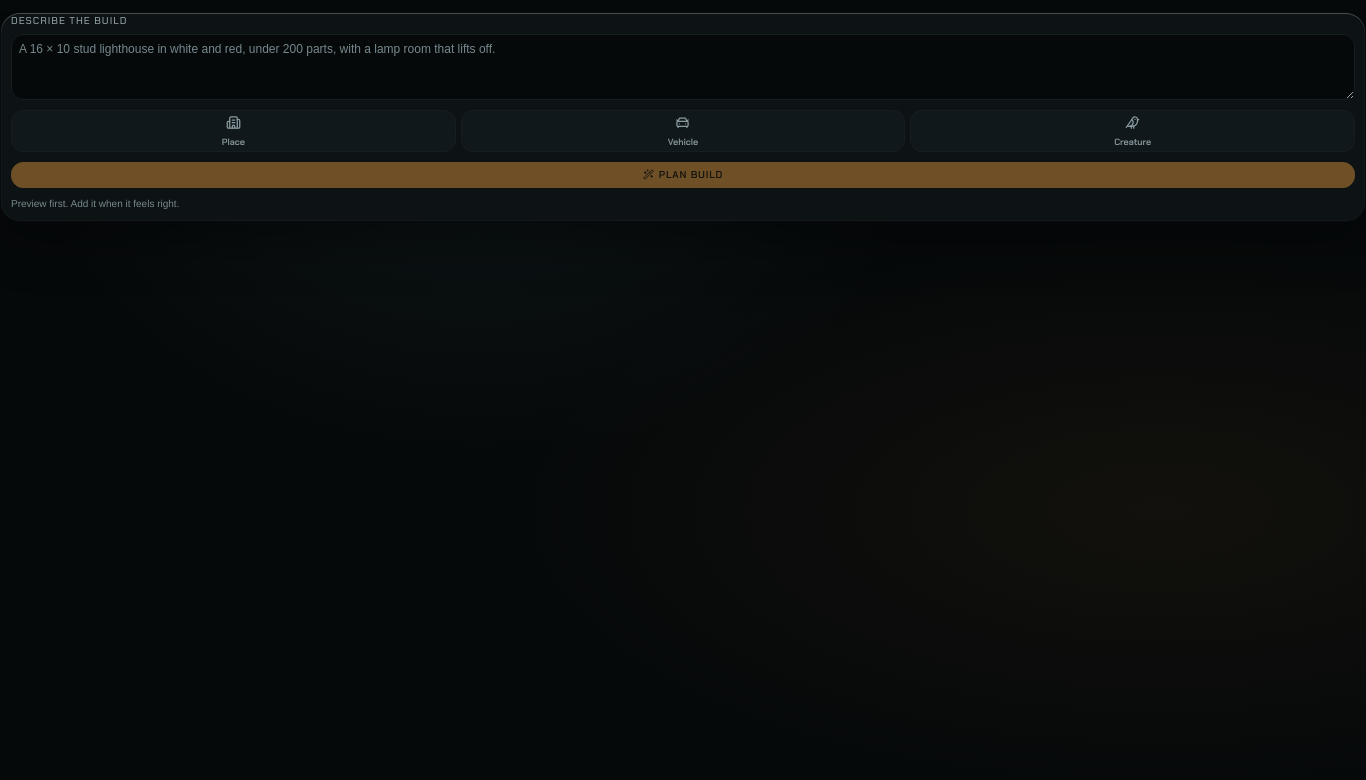
Scenario: compiling the brief › says precisely why the route did not answer, and never invents a brief
Replace the text in the text box named "What should be built" with "a small 8 x 4 stud red kiosk under 90 parts": x=683, y=67 [11,34,1355,100]
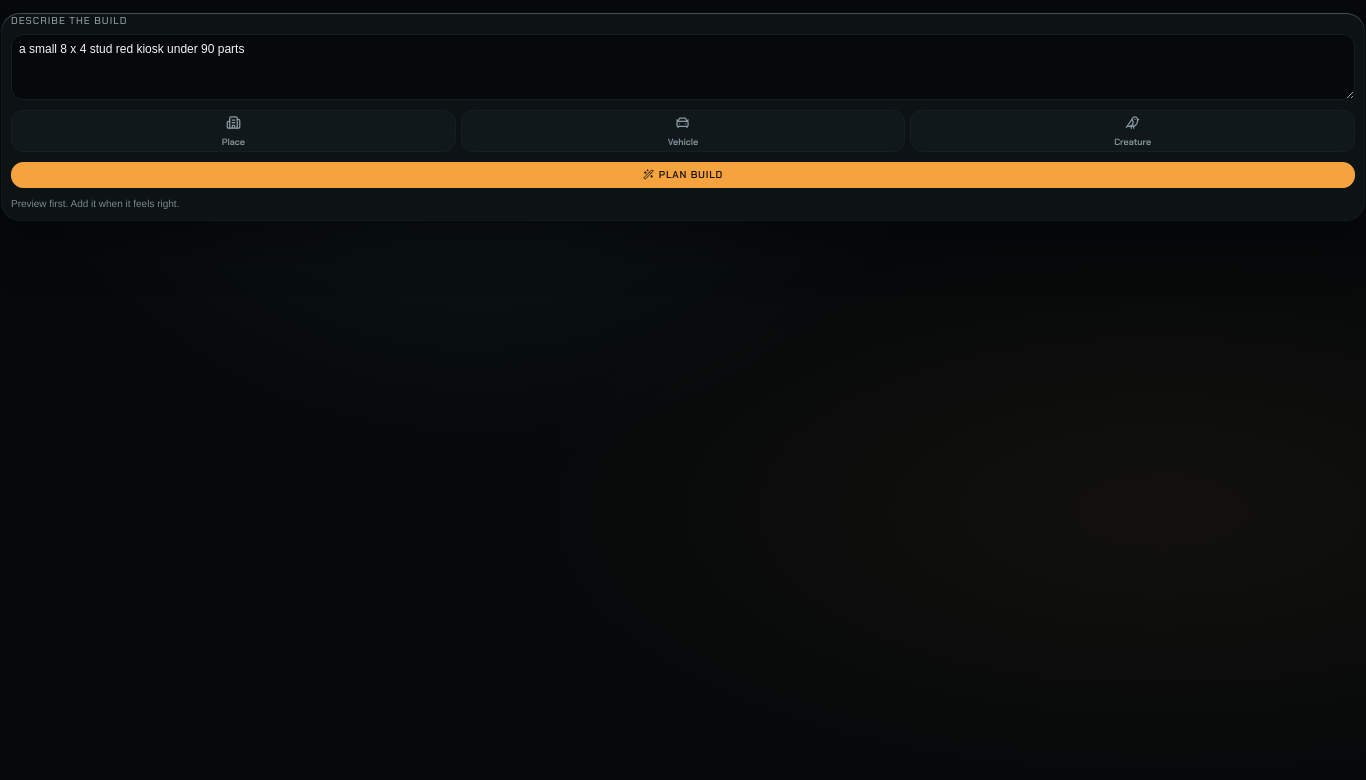
Click the button with aria-label "Compile brief": x=683, y=175 [11,162,1355,188]
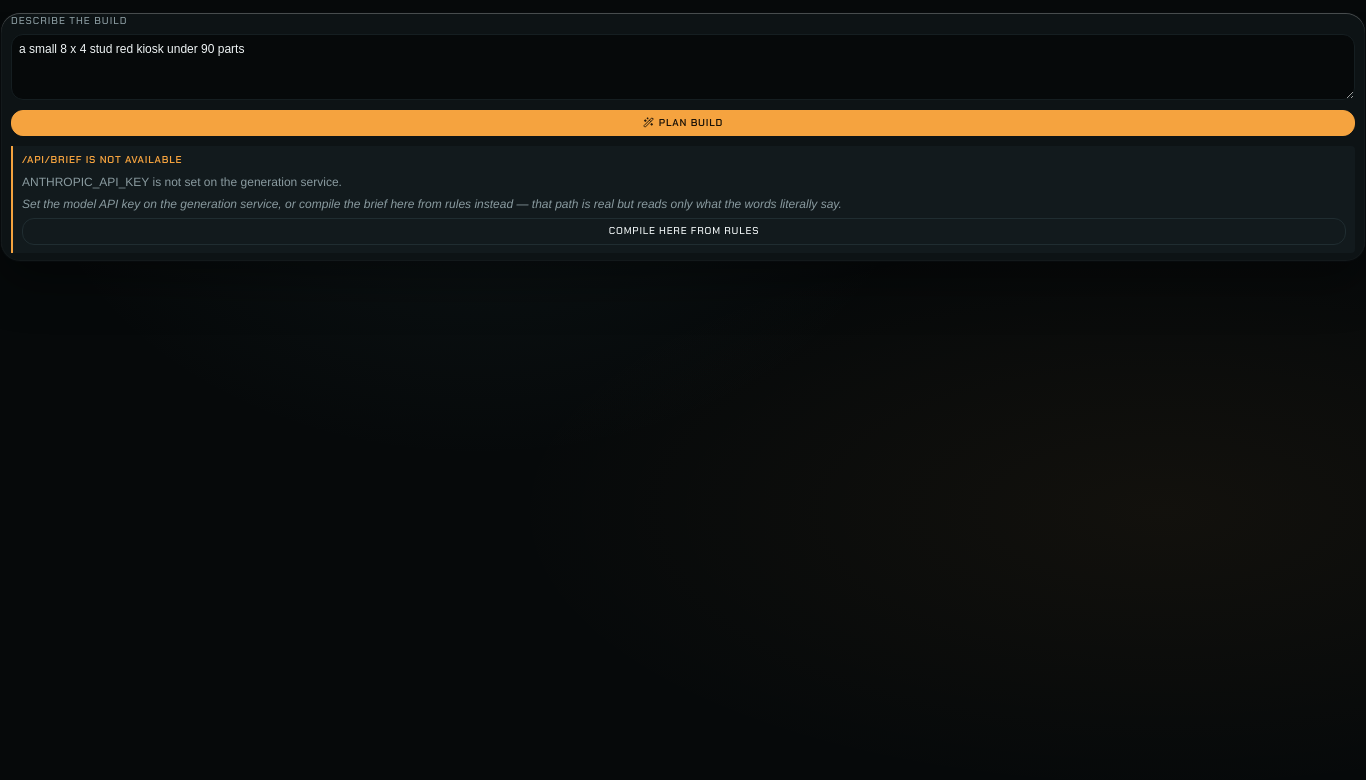
Check: the text "/api/brief is not available" is shown, box [22,154,182,167]
Check: the text "ANTHROPIC_API_KEY is not set on the generation service." is shown, box [22,175,342,189]
